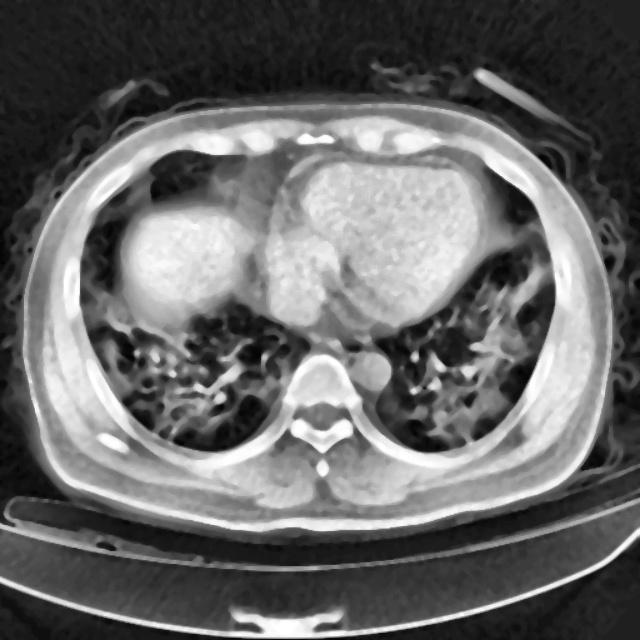covid: (12, 80, 616, 544)
